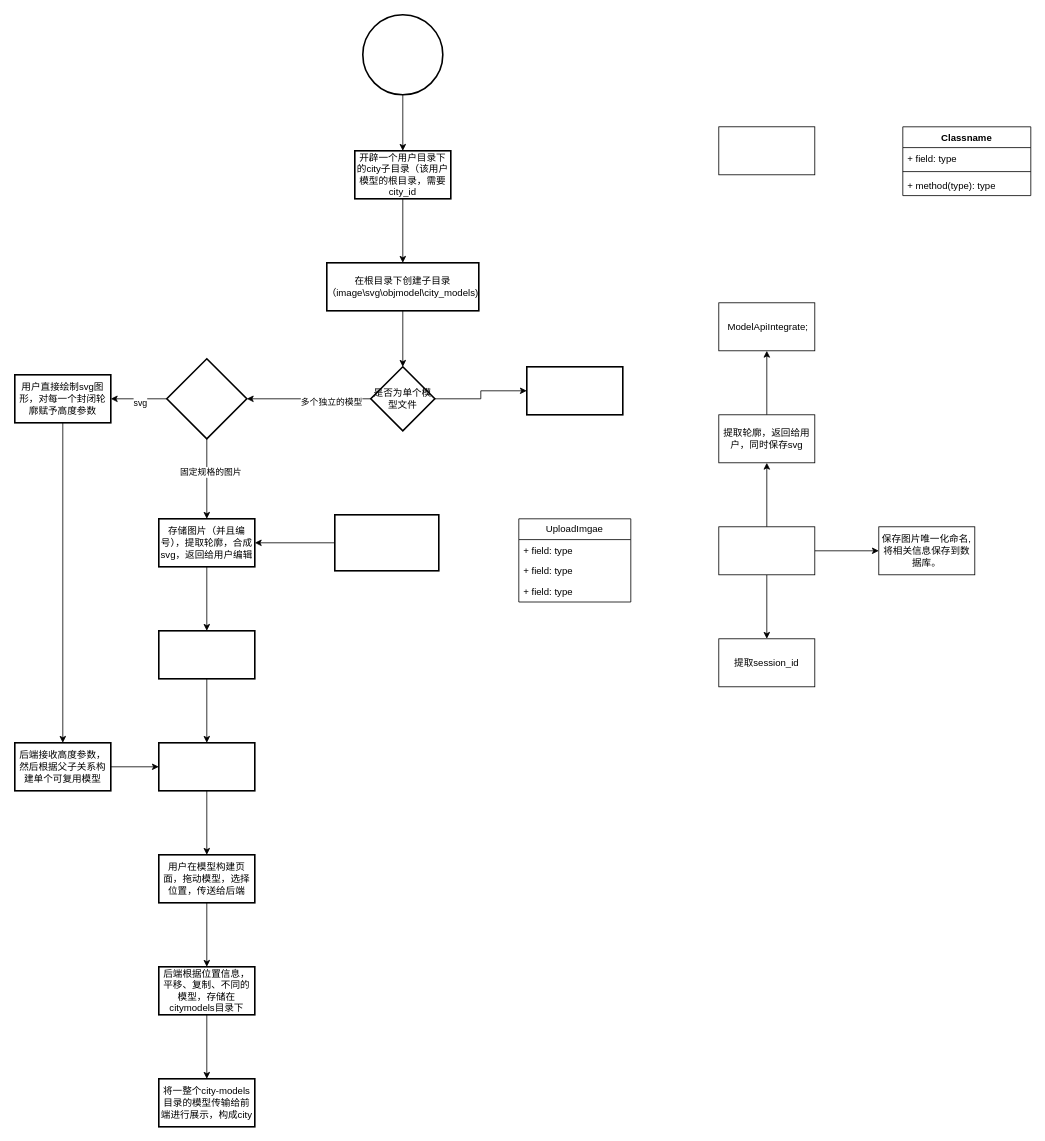
This 1045x1141 diagram has some shape labels left out. Each missing label, with the centre of its shape:
上传图片controller层调用: [766,550]
上传的文件是image/svg 以及高度参数: [206,398]
创建city: [402,54]
注册实现目录以及子目录的创建: [766,150]
生成模型文件，存储在objmodels目录下，做为构建模型的可复用单位: [206,766]
用户编辑之后，更新存储，并且传入高度参数: [206,654]
直接是一整个模型底图，生成的也是单个模型文件: [574,390]
需要用户提供图片的点击位置，区分父亲轮廓和子轮廓的点击位置，也要把这些位置传输给后端: [386,542]
